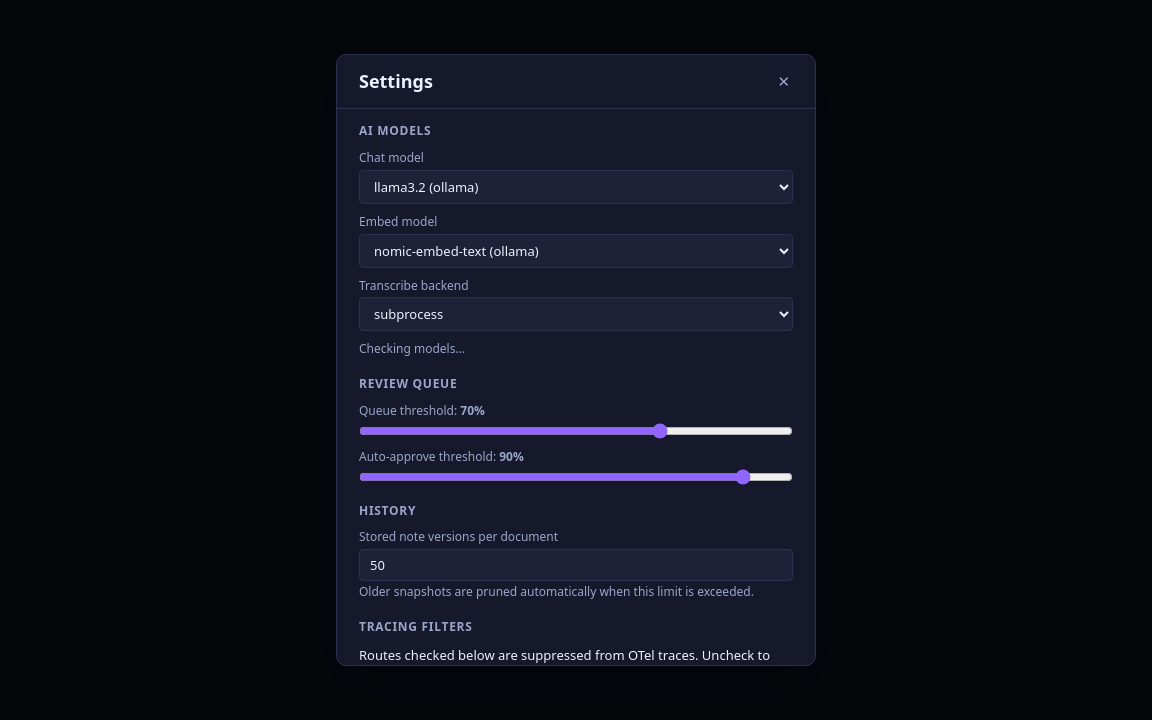
Scenario: SettingsModal — patchSettings rejection › shows an inline error message when patchSettings rejects
The image size is (1152, 720).
Select "qwen3:9b (ollama)" in the dropdown with test id "chat-model-select" at (576, 187), box top-left (359, 170), bottom-right (793, 204)
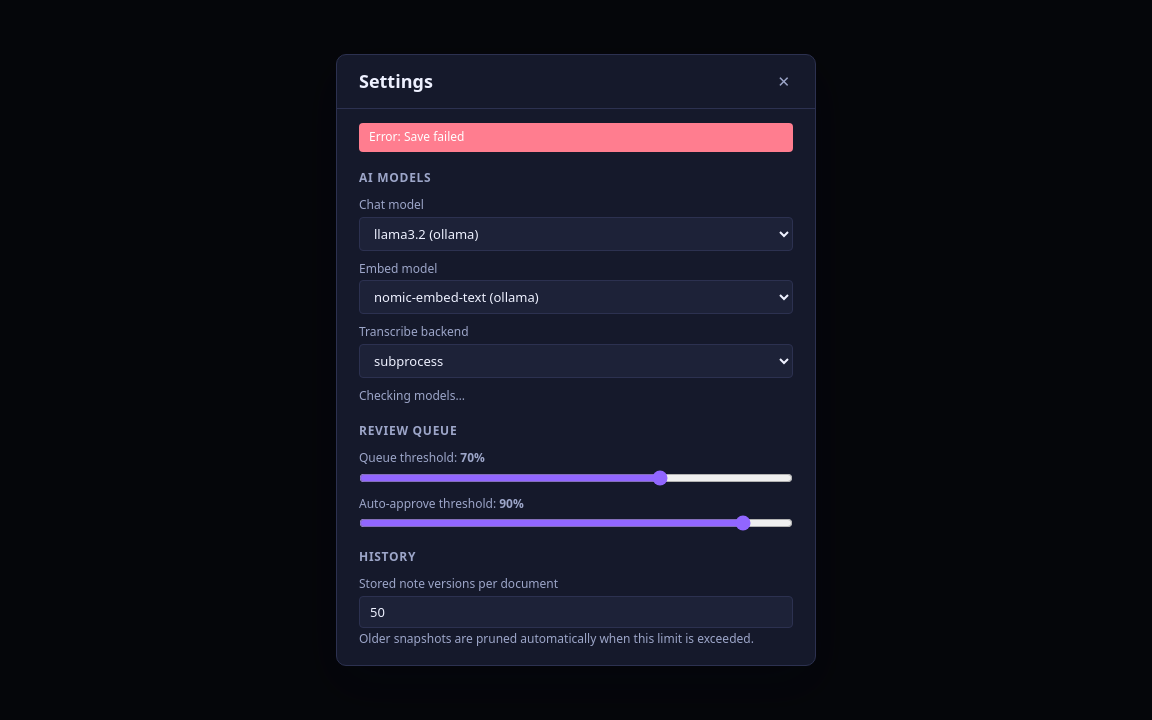
Expected: the text with test id "settings-error" shows "Save failed", top-left (369, 128), bottom-right (464, 145)
